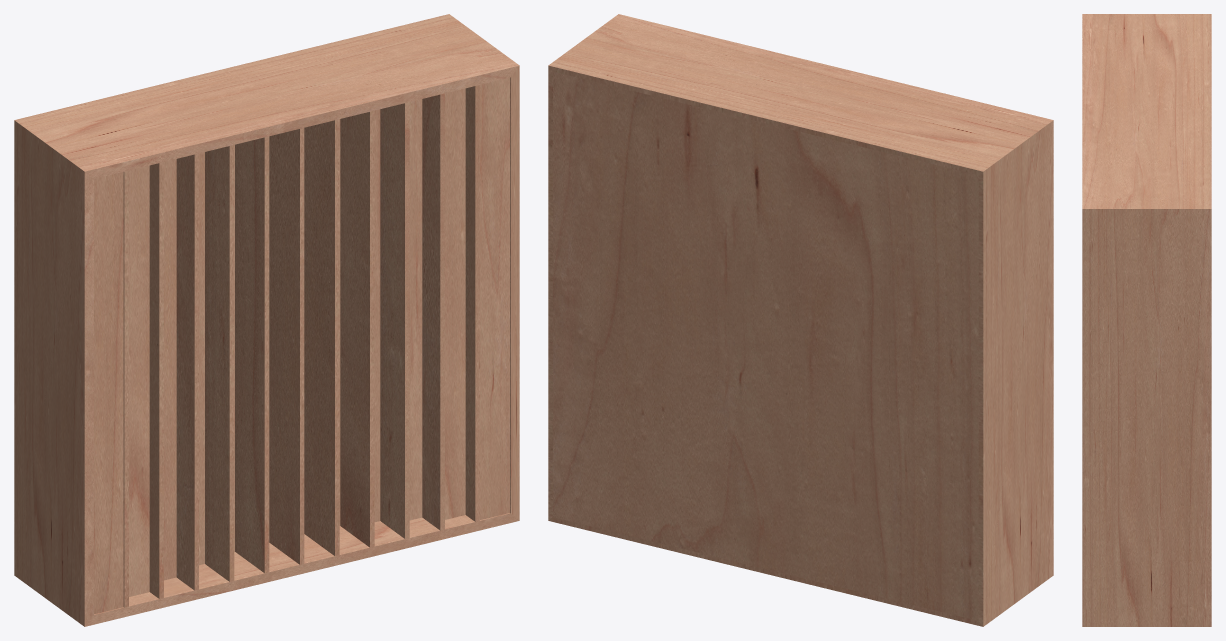
Rendered from RQS500.glb.
The picture shows the model from 3 angles, left to right: view 1: azimuth 30°, elevation 25°; view 2: azimuth 150°, elevation 25°; view 3: azimuth 270°, elevation 25°; orthographic projection. The views are drawn at different scales.
Visible parts, largest first — view 1: mock RQS500; view 2: mock RQS500; view 3: mock RQS500.
Boxes of the visible parts, x1=… form: mock RQS500: x1=14, y1=14, x2=519, y2=626; mock RQS500: x1=548, y1=14, x2=1053, y2=626; mock RQS500: x1=1082, y1=14, x2=1211, y2=626.
Bounding box in the file's own units: 23.62 × 23.62 × 6.62.
Materials: 1 (1 with a texture image).
